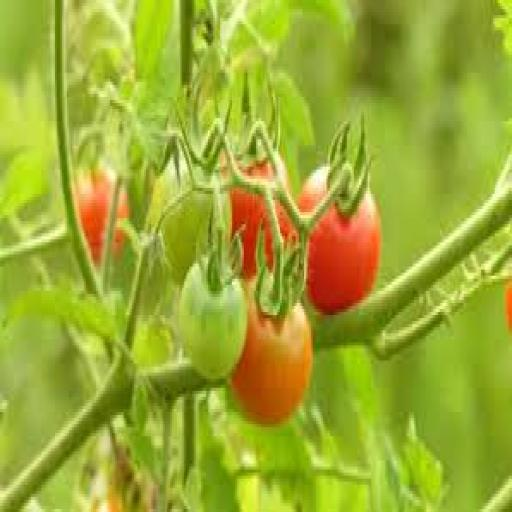tomato: (232, 300, 312, 424), (308, 191, 381, 315), (179, 264, 247, 378), (150, 167, 213, 284), (231, 188, 273, 278), (76, 173, 113, 263), (95, 494, 121, 511), (506, 282, 511, 333)
